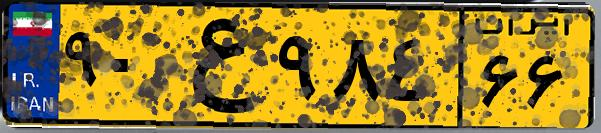0: (110, 28, 158, 98)
4: (385, 28, 445, 110)
6: (475, 38, 525, 113), (525, 38, 570, 115)
8: (330, 28, 385, 110)
9: (270, 28, 330, 110), (57, 26, 110, 100)
ع: (158, 12, 270, 120)
